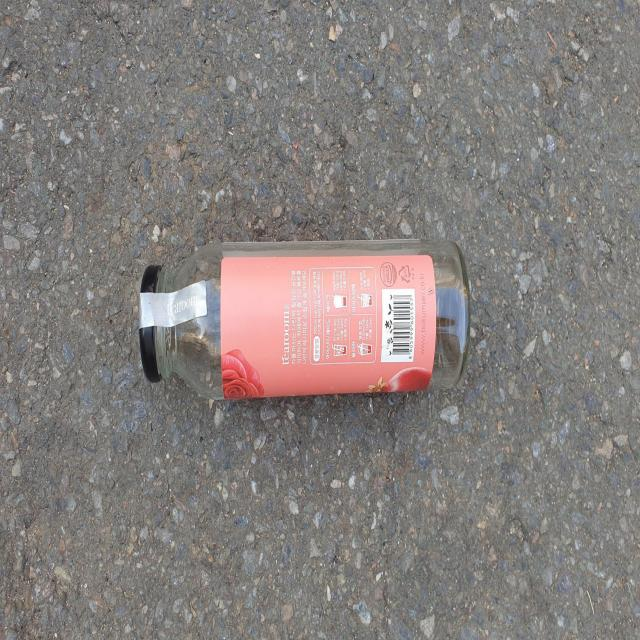glass: (139, 239, 471, 400)
